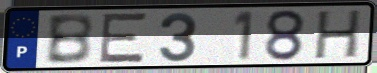1: (231, 9, 254, 63)
3: (157, 10, 198, 64)
8: (261, 8, 307, 63)
B: (43, 12, 96, 66)
E: (96, 11, 150, 65)
H: (311, 8, 365, 62)
